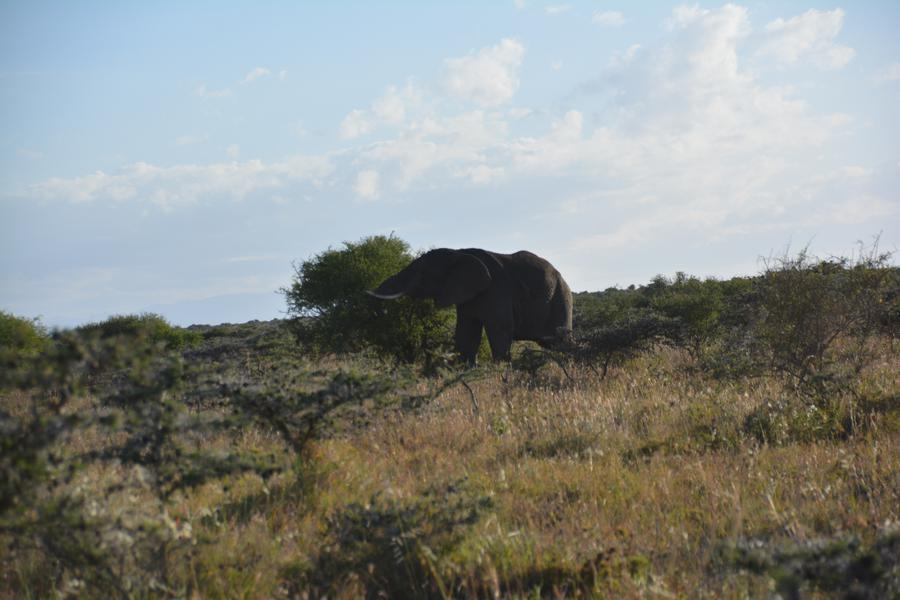elephant: (381, 244, 581, 361)
